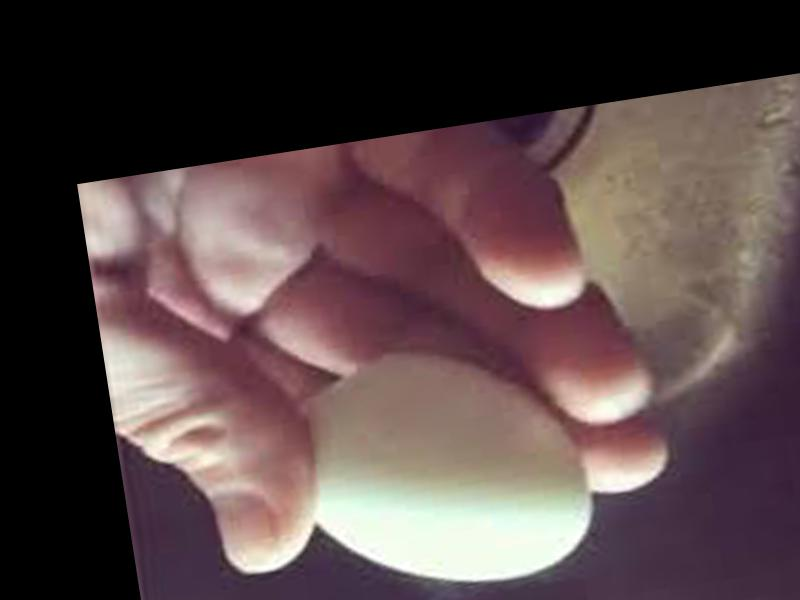Eggs: (287, 336, 595, 600)
